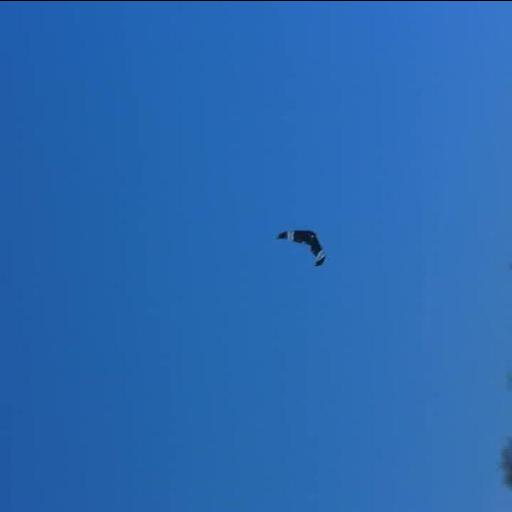uav: (266, 225, 336, 271)
